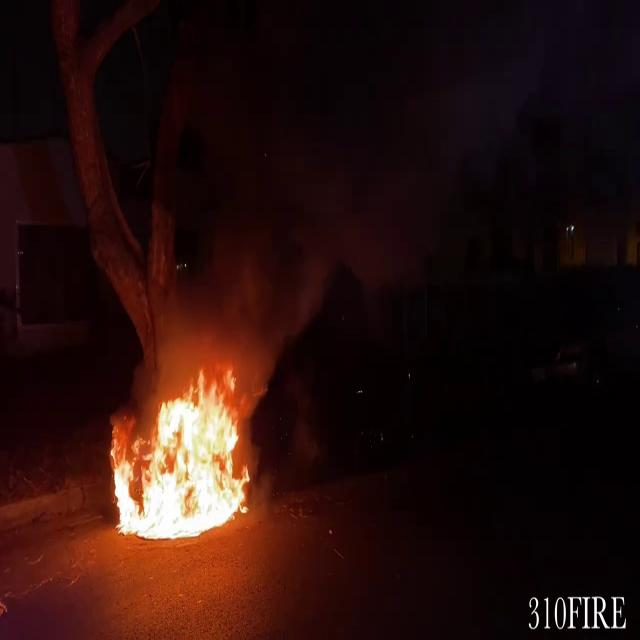Fire: (104, 364, 254, 541)
Smoke: (159, 118, 371, 386)
